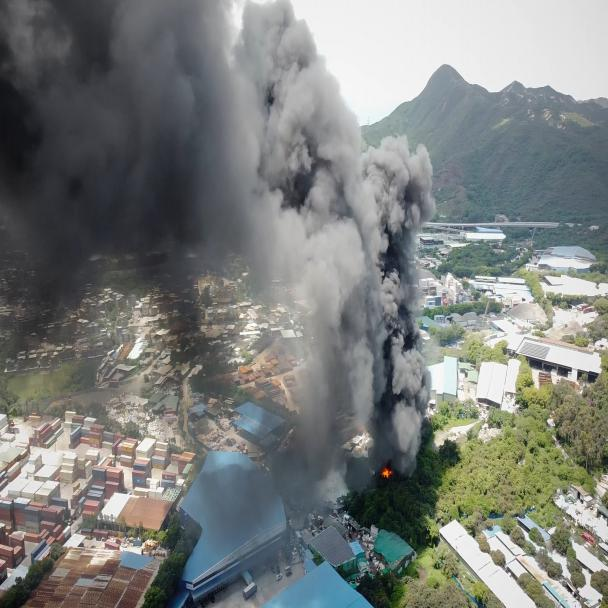Fire: (366, 458, 408, 492)
smoke: (6, 4, 434, 432)
